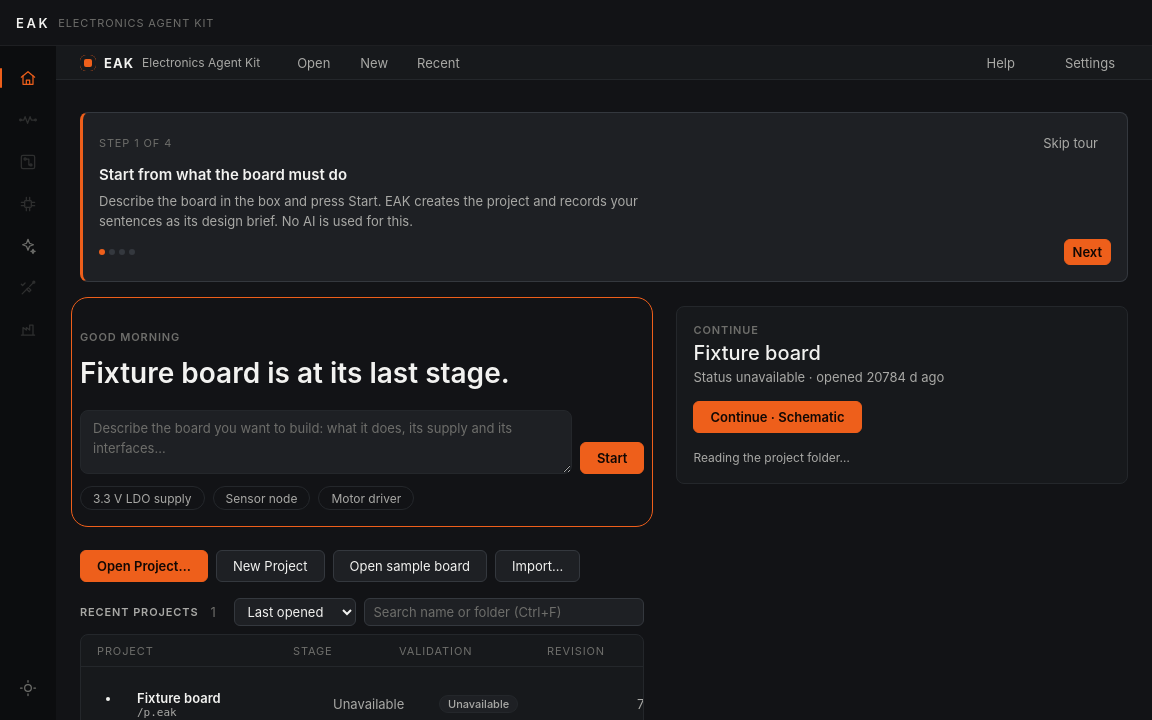
Problems and journey bar in the workspace › a Problems row goes to the finding's sheet with the part selected (F7) and the Problems tab stays
This screenshot has width=1152, height=720.
Click the text "Fixture board" below "Validation". click: {"x": 179, "y": 698}
box: [137,690,221,706]
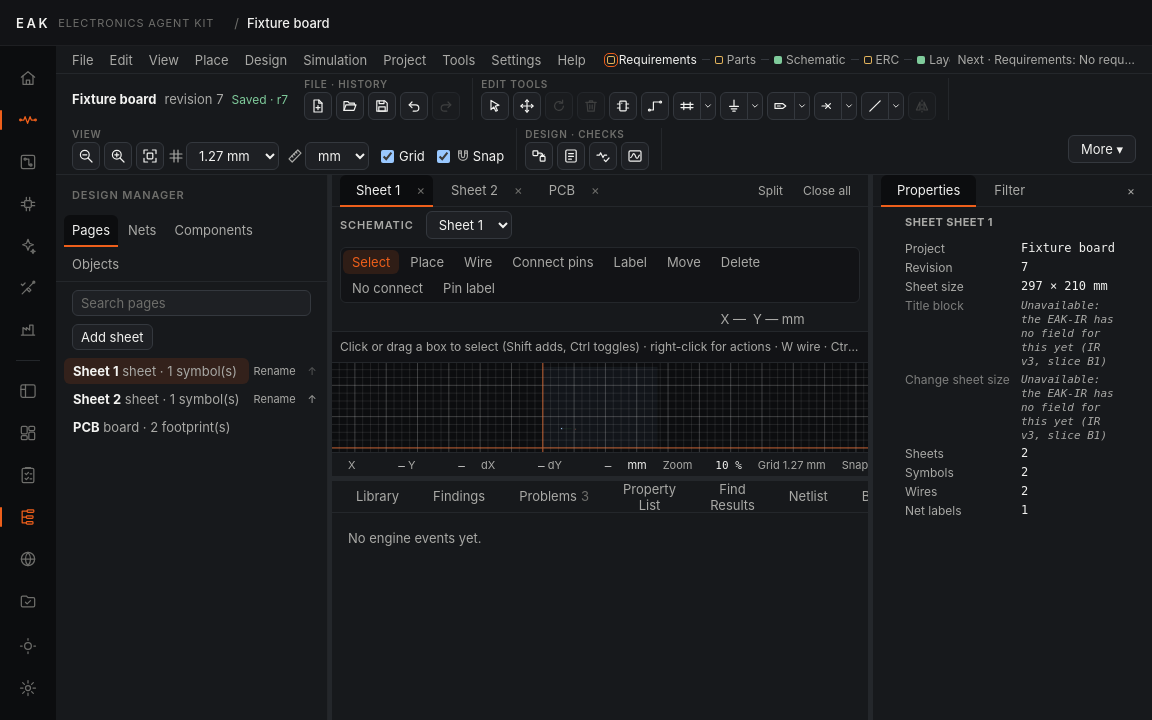
Click the tab "Problems3". click: {"x": 554, "y": 496}
box: [503,480,605,512]
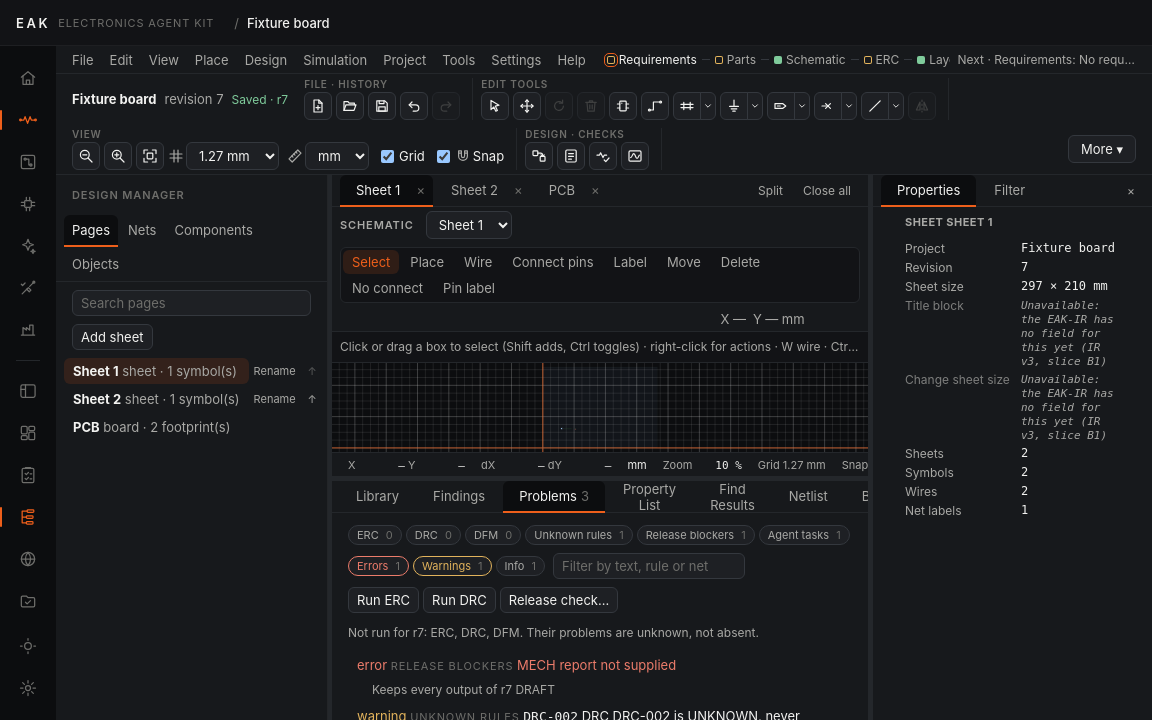
Now the button "error Release blockers MECH report not supplied" is shown, box [348,652,852,678]
Click the button "Run ERC". click: {"x": 384, "y": 600}
box: [348,587,419,613]
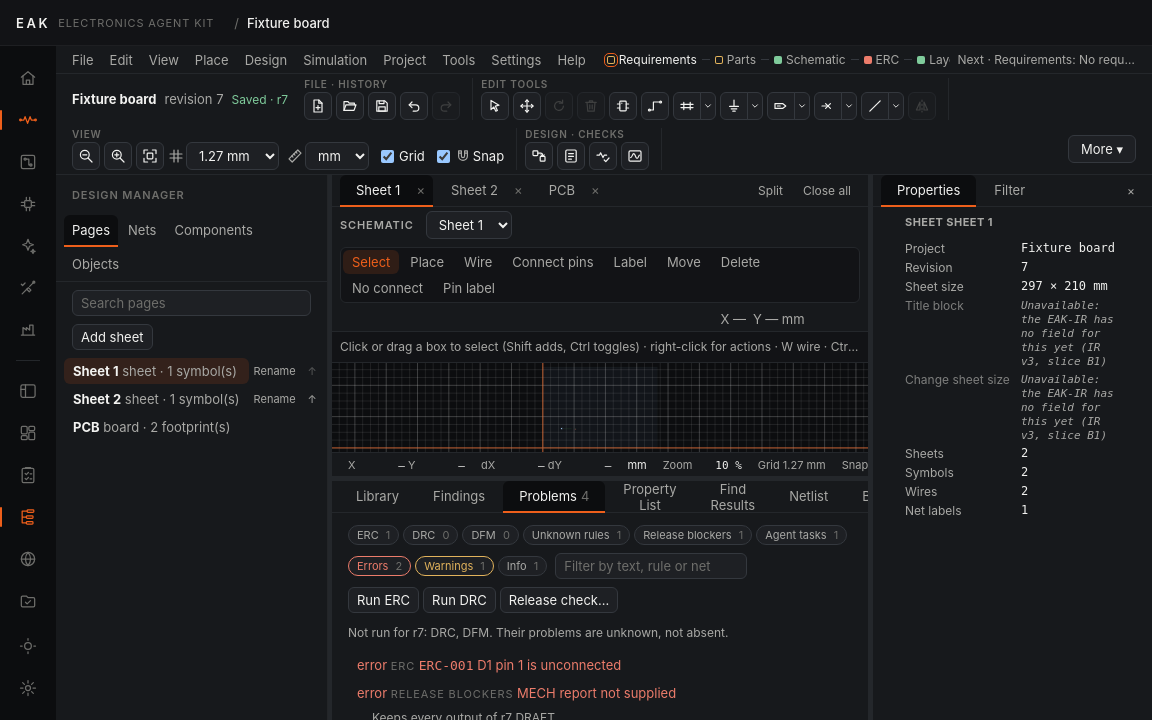
Click the button "error ERC ERC-001 D1 pin 1 is unconnected". click: {"x": 600, "y": 665}
box: [348,652,852,678]
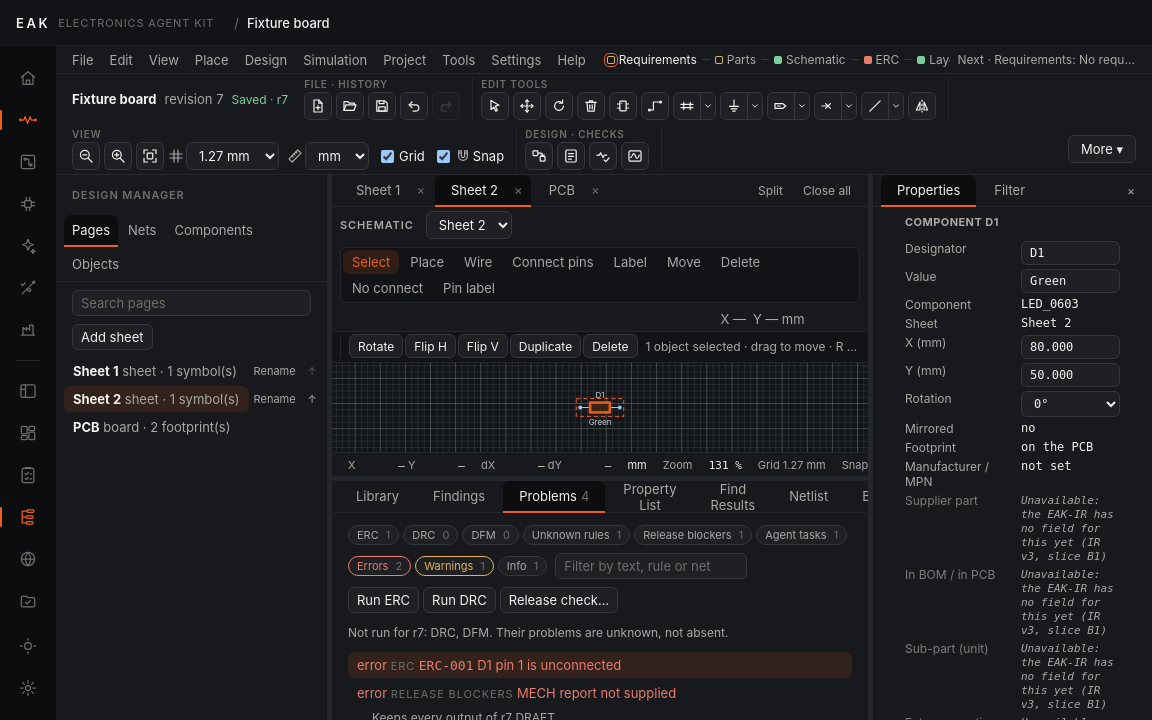
Expected: the element with class "selected" is shown, [589,390,611,427]
Now the tab "Problems4" is selected, box [503,480,605,512]
Click the tab "Findings". click: {"x": 459, "y": 496}
box: [417,480,501,512]
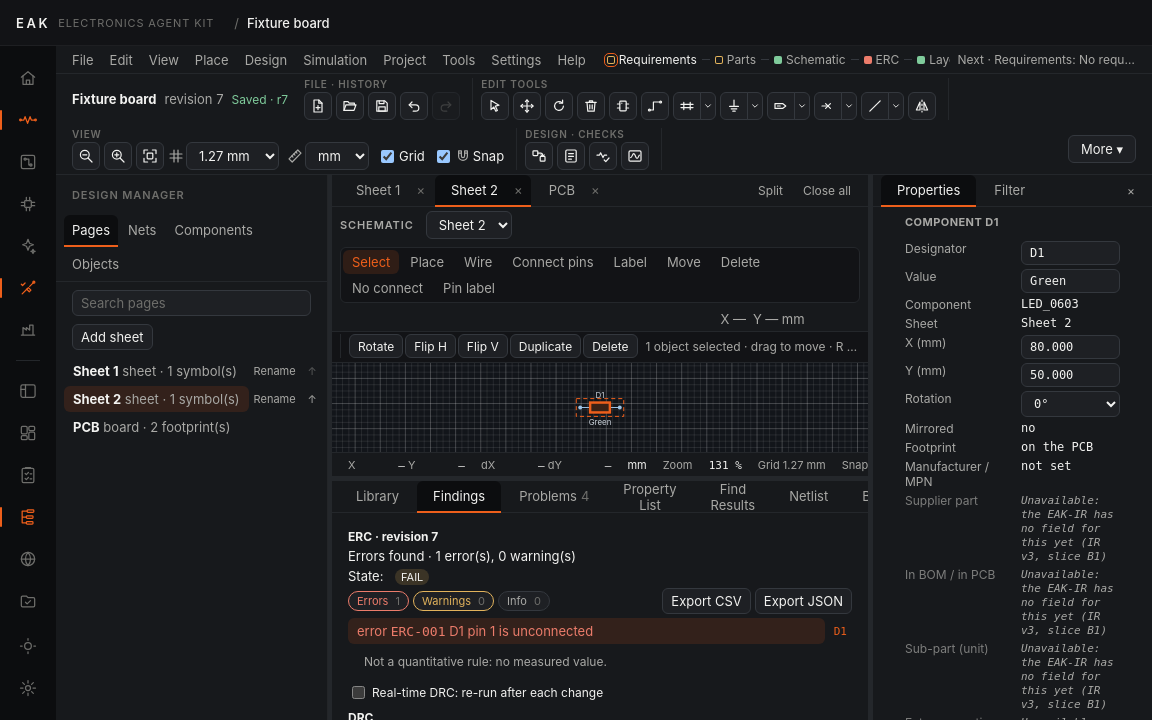
Now the element named "ERC report" is shown, box [348,529,852,675]
